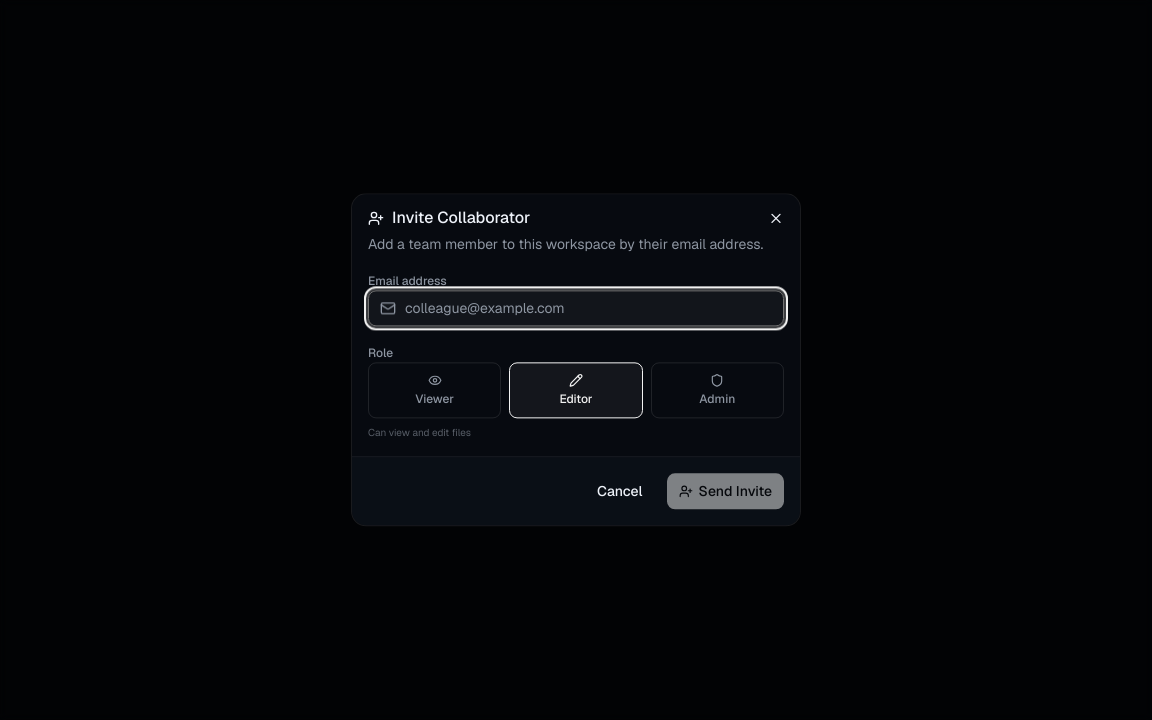
Test: InviteCollaboratorDialog › shows error message on failure
In the field with placeholder "colleague@example.com": (576, 308) x1=368 y1=290 x2=784 y2=326, type "unknown@example.com"
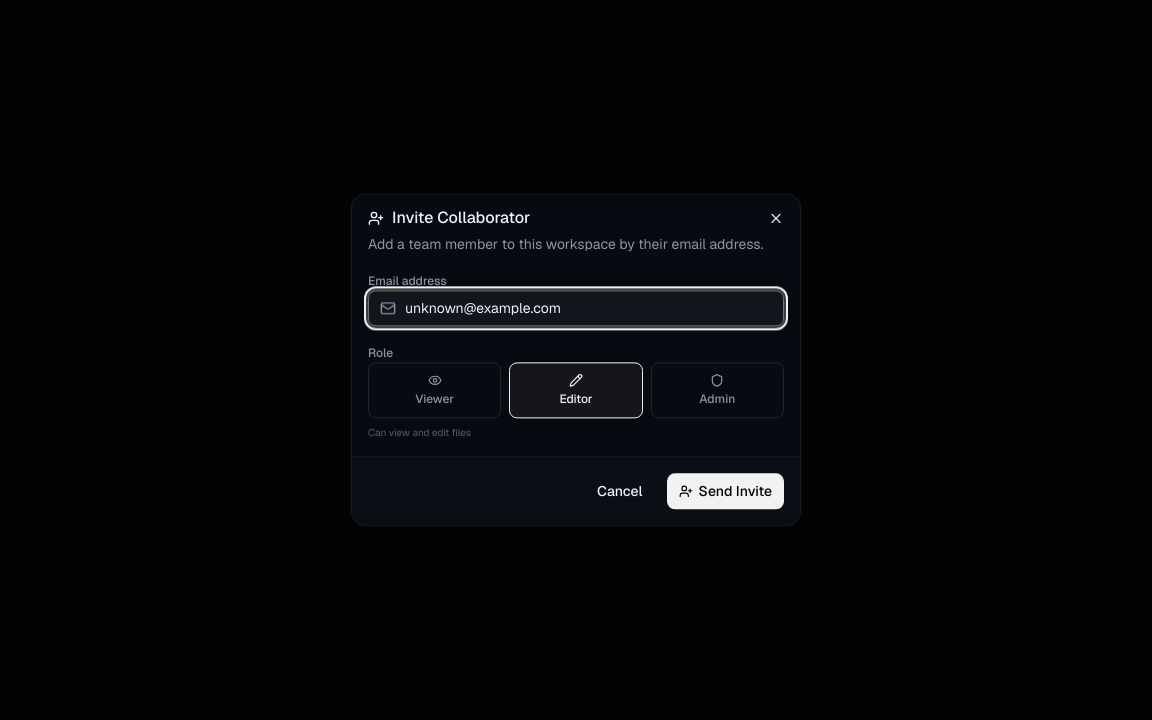
Click the button "Send Invite": click(725, 492) x1=667 y1=474 x2=784 y2=510
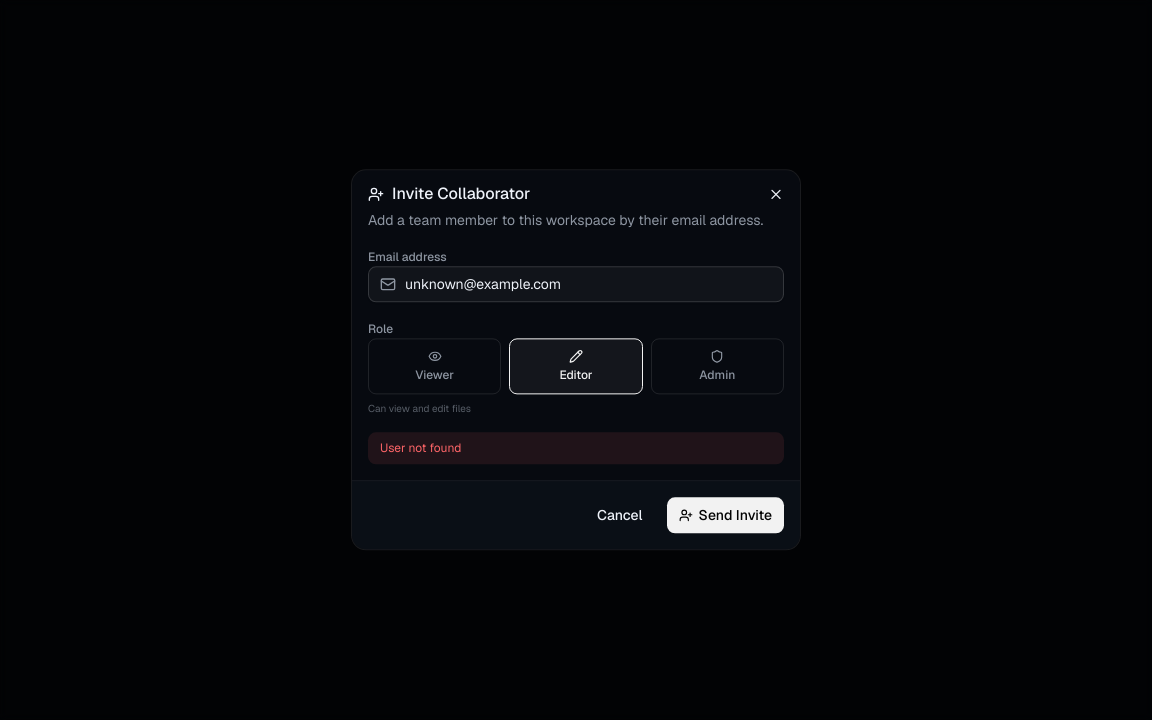
Expected: the text "User not found" is shown, x1=368 y1=433 x2=784 y2=465
